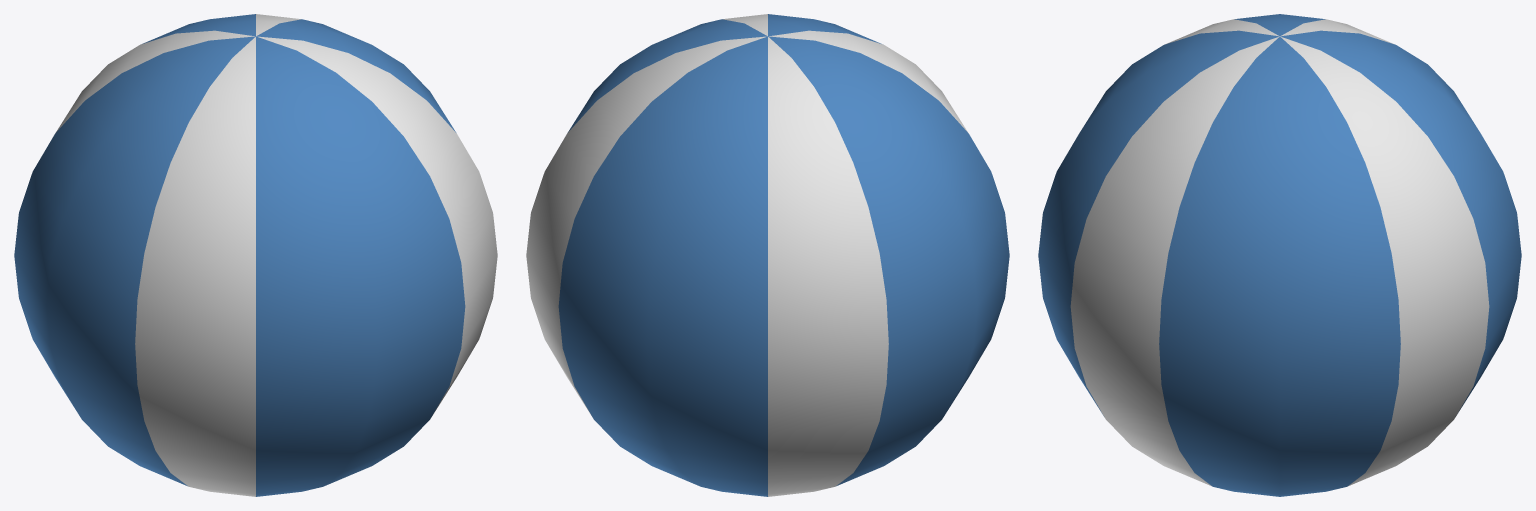
File: Ball_A.fbx
3 views of the same model, side by side, from view 1: azimuth 30°, elevation 25°; view 2: azimuth 150°, elevation 25°; view 3: azimuth 270°, elevation 25° (orthographic).
Visible parts, largest first — view 1: Ball_A; view 2: Ball_A; view 3: Ball_A.
Boxes of the visible parts, <box> form: Ball_A: <box>14,14,497,496</box>; Ball_A: <box>526,14,1009,496</box>; Ball_A: <box>1038,14,1521,496</box>.
Bounding box in the file's own units: 29.03 × 29.03 × 29.03.
Materials: 1 (1 with a texture image).
